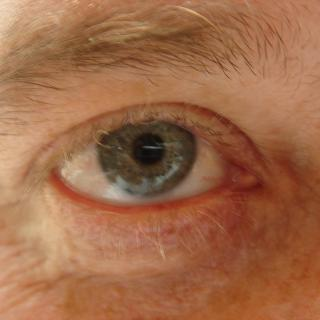pupil: (133, 134, 165, 166)
